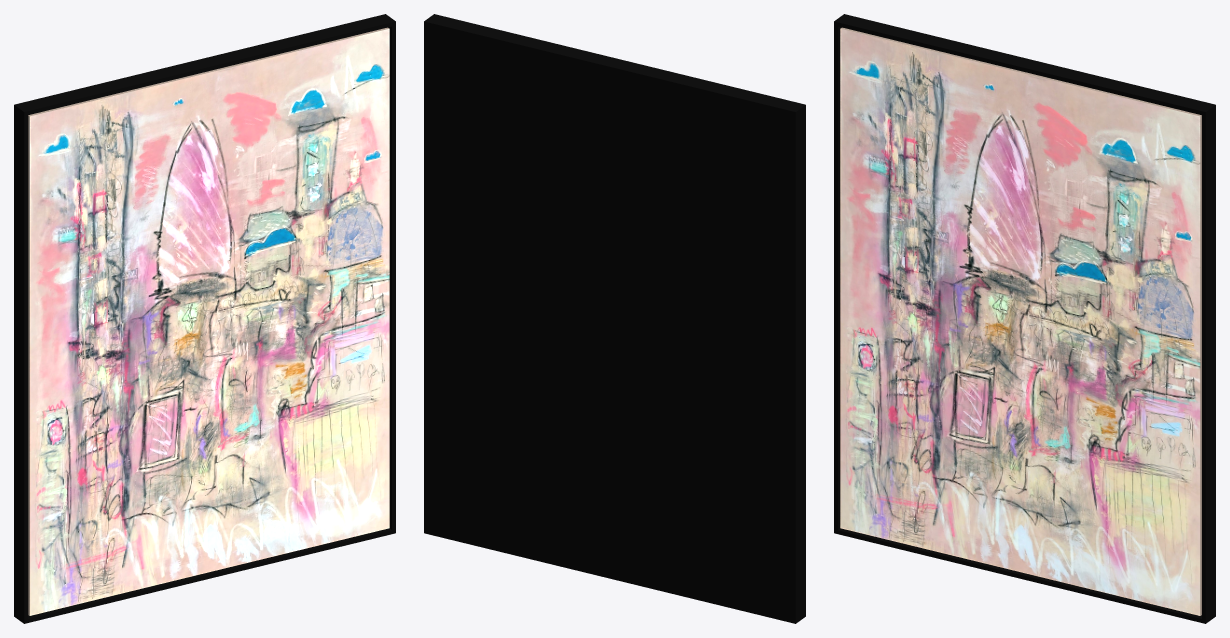
Rendered from ive-been-here-before-black.glb.
3 views of the same model, side by side, from view 1: azimuth 30°, elevation 25°; view 2: azimuth 150°, elevation 25°; view 3: azimuth 330°, elevation 25° (orthographic).
Parts seen in each view (by area): view 1: painting; view 2: painting; view 3: painting.
Part boxes in pixels (<box>): painting: <box>14,14,395,623</box>; painting: <box>424,14,805,623</box>; painting: <box>834,14,1215,623</box>.
Bounding box in the file's own units: 0.95 × 1.25 × 0.045.
Materials: 3 (1 with a texture image).
